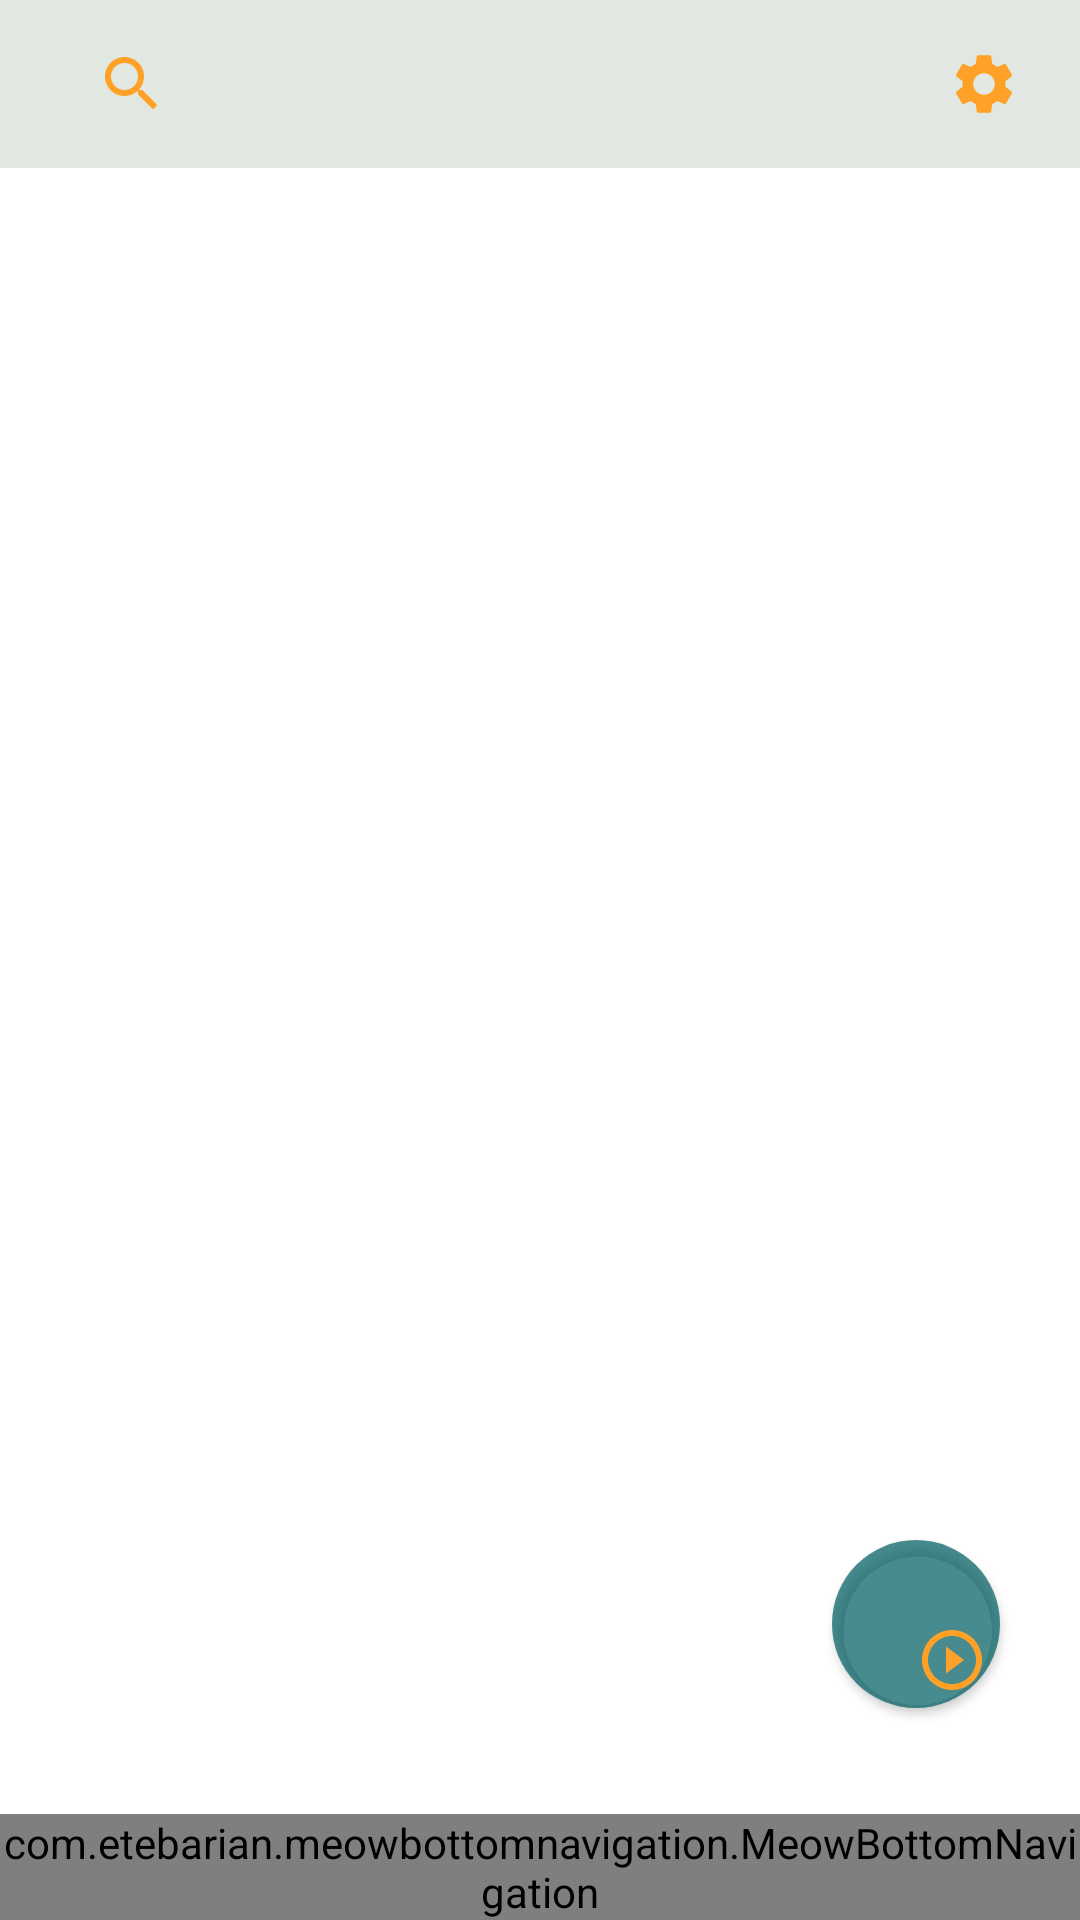

Screen size 1080w x 1920h. Icon name, then its center in pixels as (x=x, y=y):
setting: (x=984, y=84)
